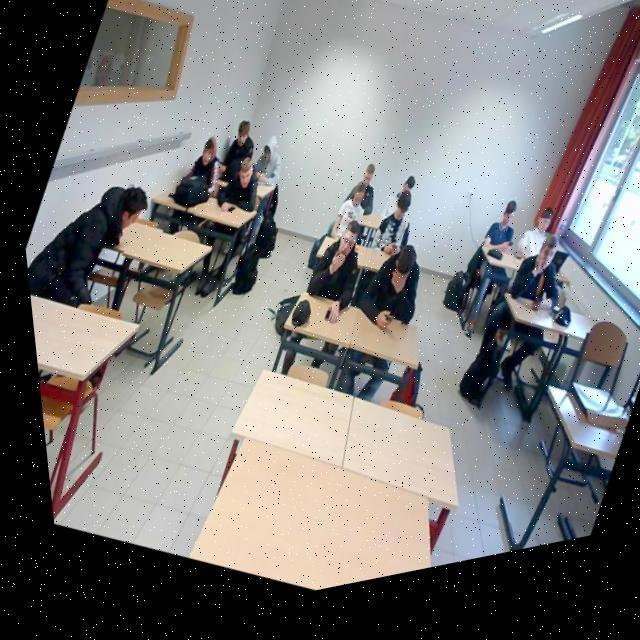daydreaming: (28, 186, 145, 304)
phone_use: (356, 245, 417, 322), (472, 200, 514, 287), (375, 191, 409, 253), (219, 120, 252, 179), (331, 183, 364, 236), (253, 135, 279, 196)
